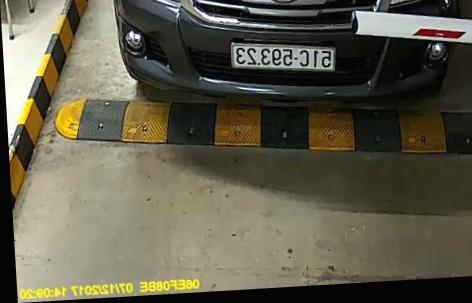License_Plate: (228, 38, 337, 75)
